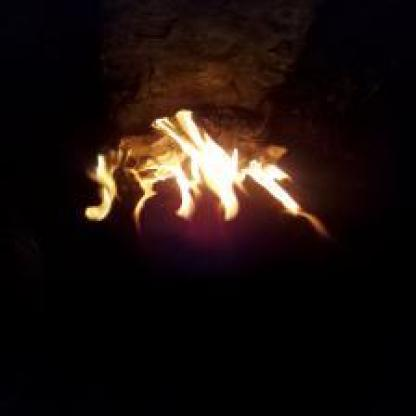Fire: (74, 104, 334, 240)
